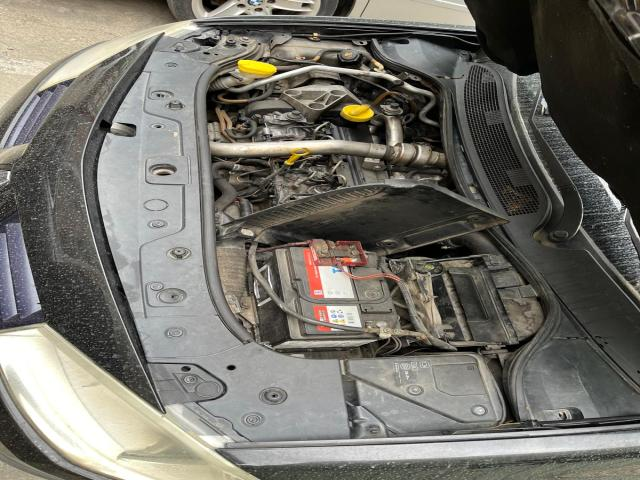accumulator: (253, 239, 402, 350)
alternator: (207, 122, 228, 142)
antifreeze_tank: (270, 38, 365, 67), (270, 60, 288, 66)
fuse_box: (345, 352, 505, 439)
high_pressure_pump: (262, 112, 310, 142)
